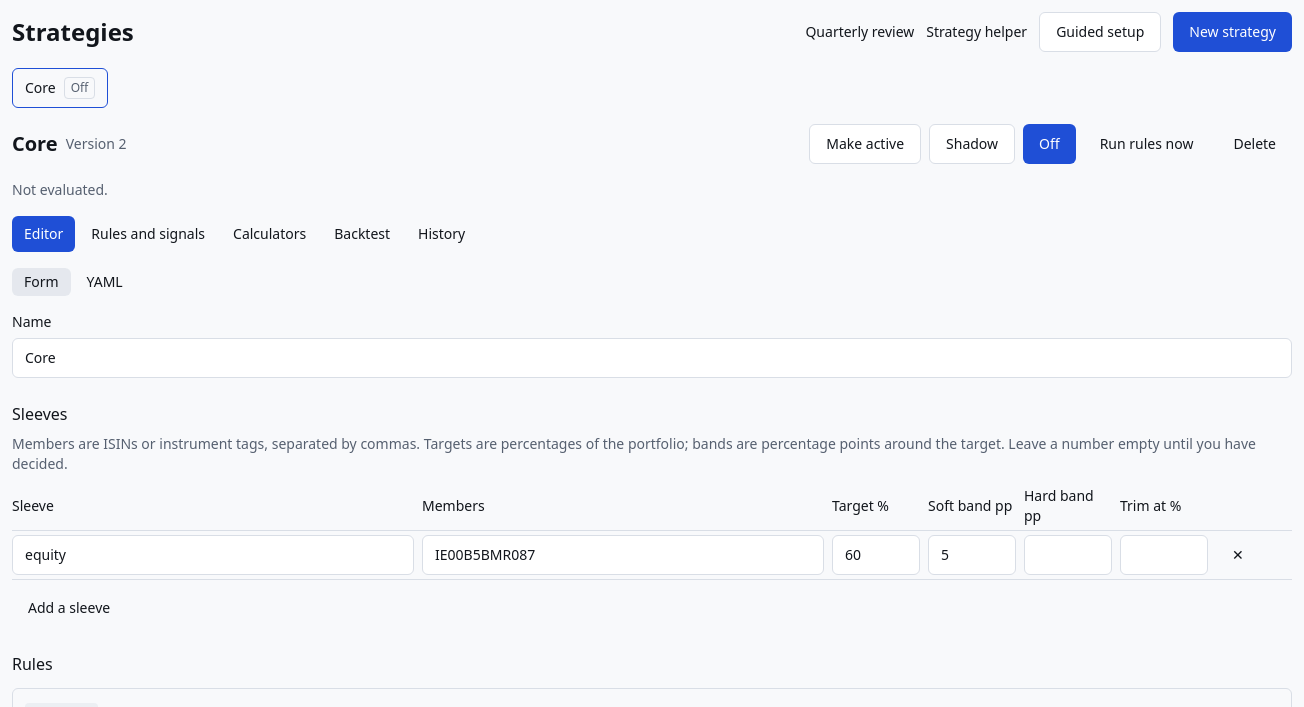
Test: strategies (FR-ST-01, FR-ST-02) › keeps you in the YAML view when the YAML does not parse
Step 1. Click the tab "YAML" → coordinates (105, 282), box [75,268,135,296]
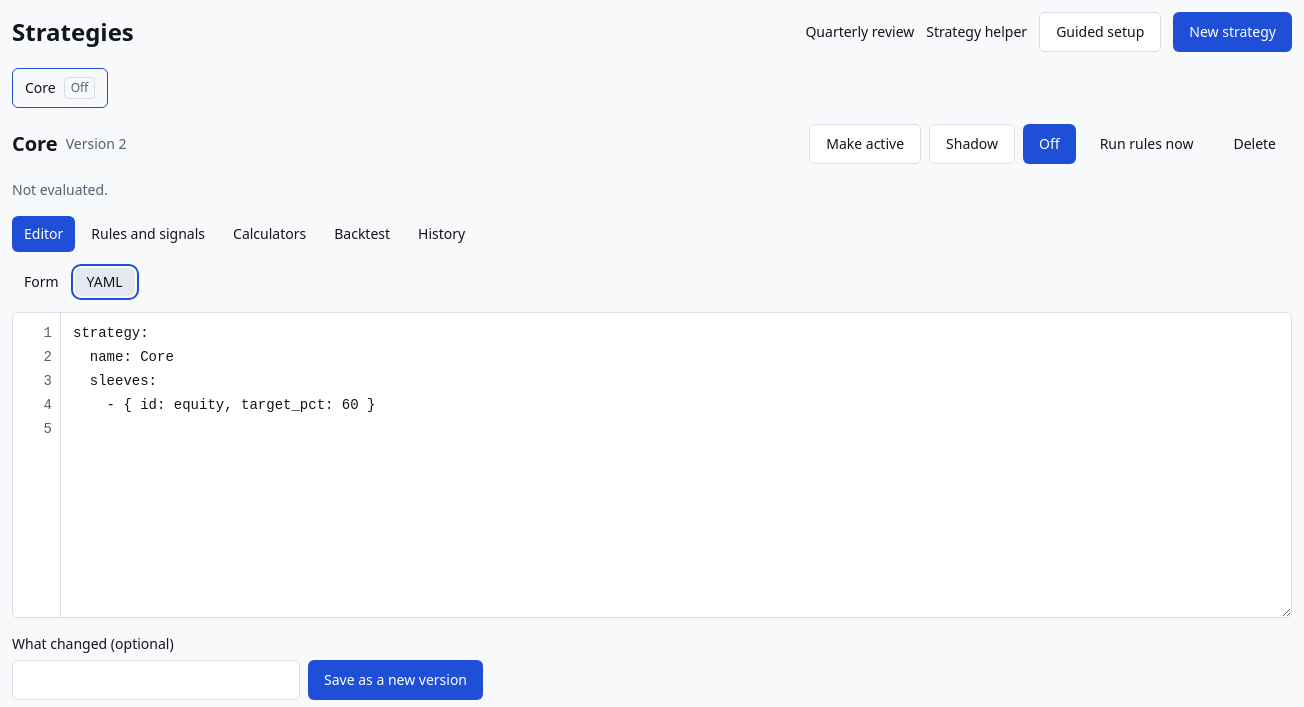
Step 2. Type ": broken" into the text box named "Strategy as YAML" → coordinates (676, 465), box [61,313,1291,617]
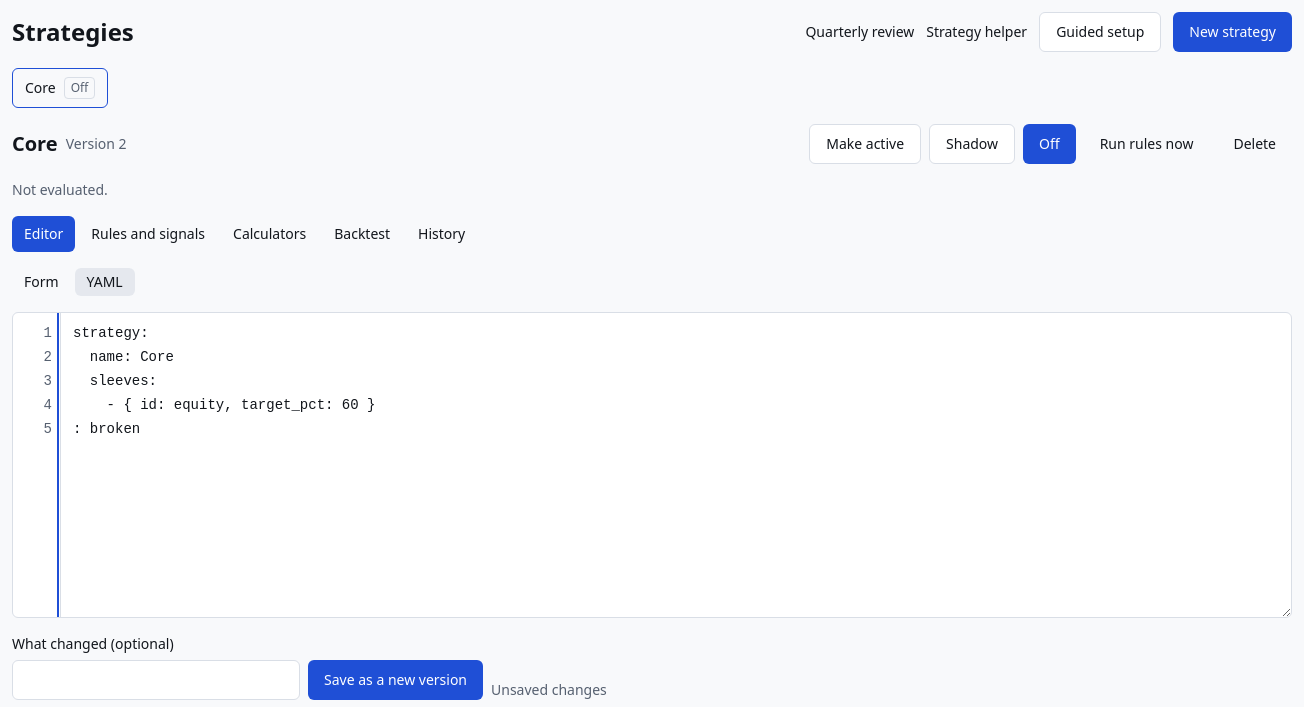
Step 3. Click the tab "Form" → coordinates (41, 282), box [12,268,71,296]
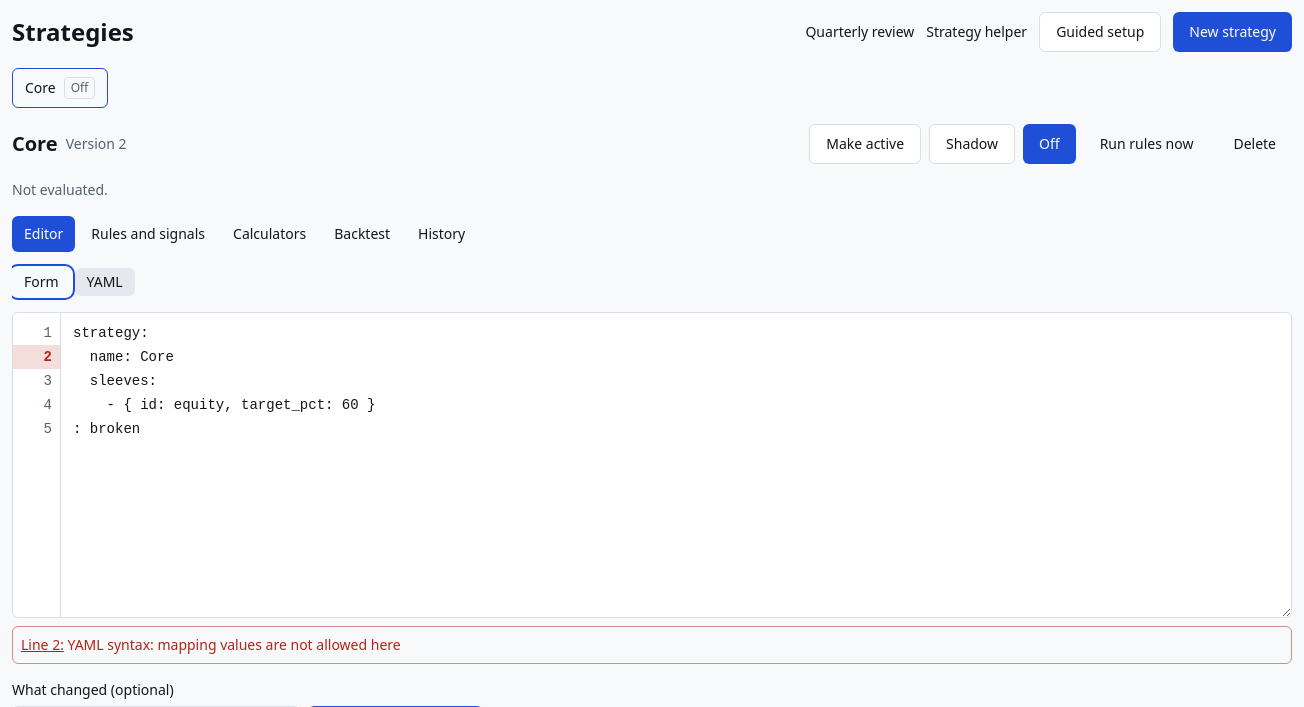
Expected: the message shows "YAML syntax", [68,635,401,654]
